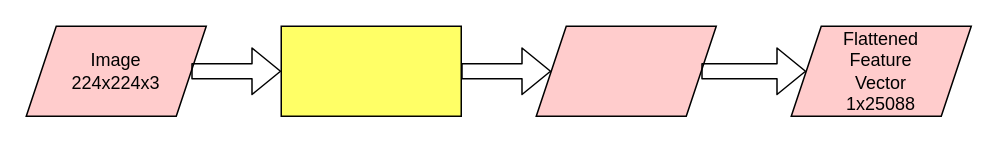
This 998x143 diagram has some shape labels left out. Here are the shapes that lost their labels. From the top down, the centre of each, then its label:
the point at 370,70: VGG16
the point at 625,70: Feature Vector 7x7x512
